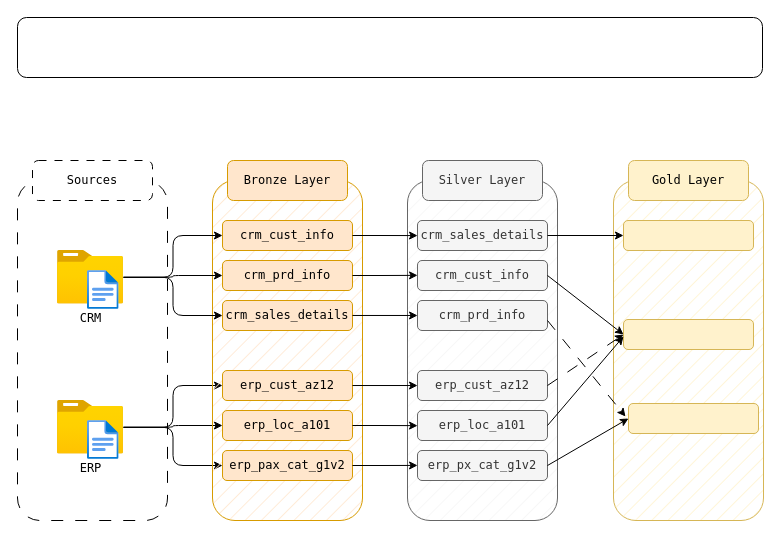
The diagram is 781 pixels wide and 538 high, and some of its shapes have lost their labels. The centre of each missing label's shape, as x and y in pixels:
"DATA FLOW (data lineage)" goes at point 389,47.
"dim_customers" goes at point 688,334.
"dim_products" goes at point 693,418.
"fact_sales" goes at point 688,235.
